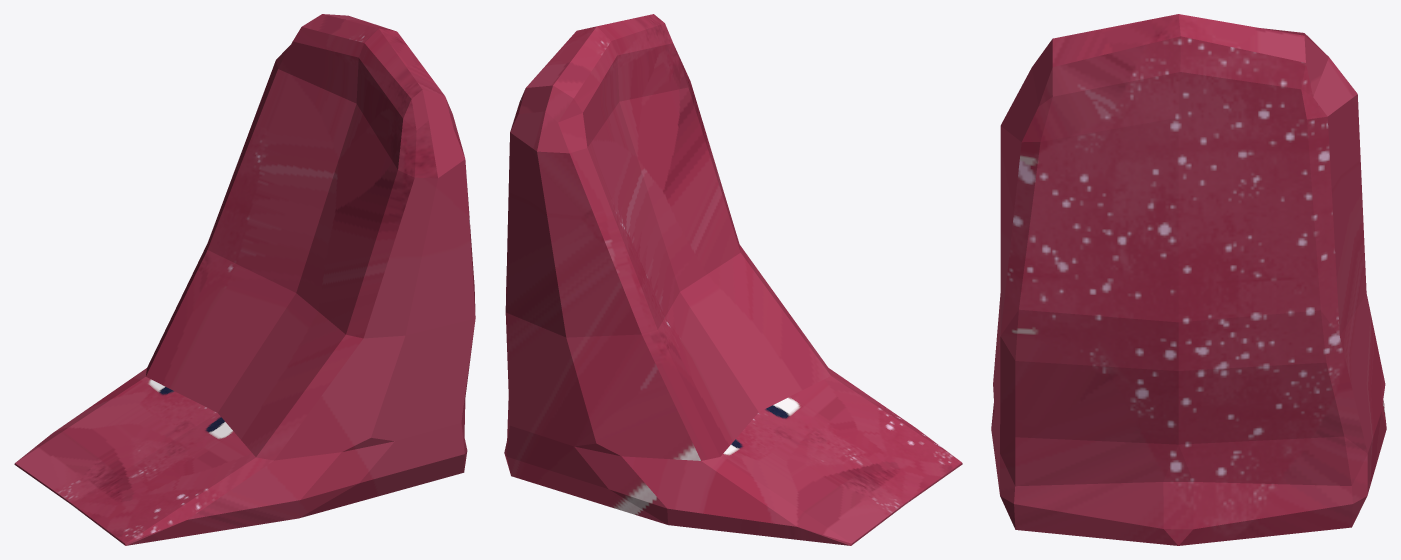
File: TrenchPipeV2.fbx
The picture shows the model from 3 angles, left to right: view 1: azimuth 30°, elevation 25°; view 2: azimuth 150°, elevation 25°; view 3: azimuth 270°, elevation 25°; orthographic projection. The views are drawn at different scales.
Parts seen in each view (by area): view 1: Pive v.2; view 2: Pive v.2; view 3: Pive v.2.
Part boxes in pixels (x1,y1,x2,y2): Pive v.2: [14, 14, 475, 545]; Pive v.2: [504, 14, 962, 545]; Pive v.2: [991, 14, 1386, 545].
Size of the model in its own units: 587 by 634 by 451.
